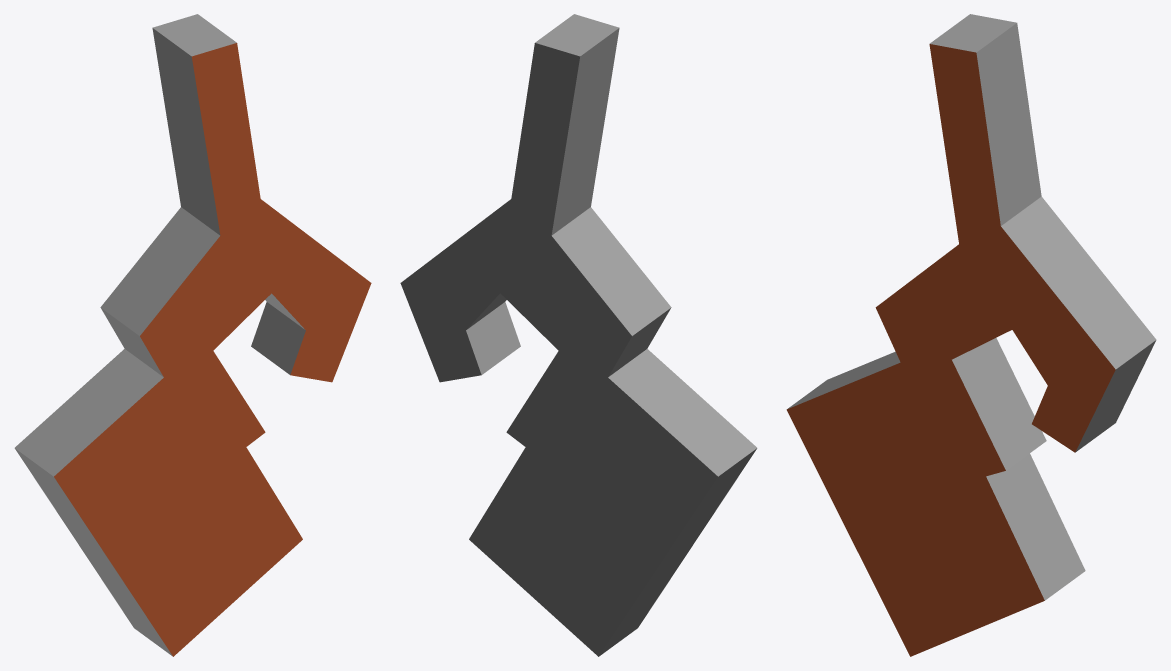
The model's file is construction_3289_assumed_A_Casa_h6m.obj.
3 renders of one model, left to right at view 1: azimuth 30°, elevation 25°; view 2: azimuth 150°, elevation 25°; view 3: azimuth 330°, elevation 25°, orthographic. The views are drawn at different scales.
Parts seen in each view (by area): view 1: construction_3289_assumed_A_Casa; view 2: construction_3289_assumed_A_Casa; view 3: construction_3289_assumed_A_Casa.
Boxes of the visible parts, <box> form: construction_3289_assumed_A_Casa: <box>14,14,371,656</box>; construction_3289_assumed_A_Casa: <box>400,14,757,656</box>; construction_3289_assumed_A_Casa: <box>786,14,1156,656</box>.
Size of the model in its own units: 27.98 by 50.37 by 6.
